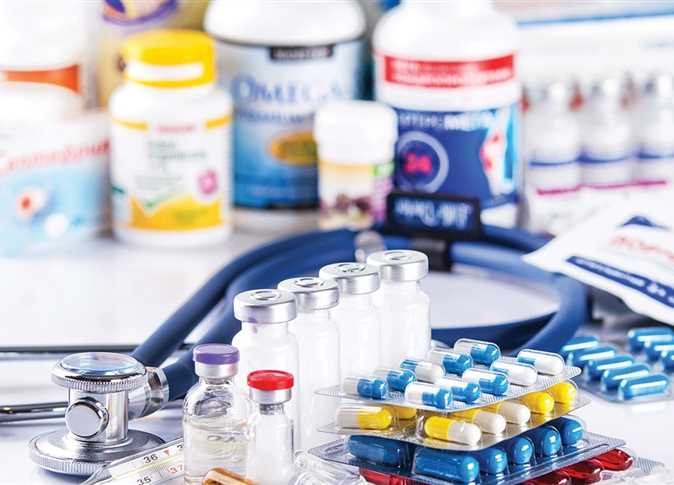Medicine: (373, 4, 524, 230), (201, 0, 353, 207), (114, 29, 233, 241), (6, 126, 127, 250), (4, 0, 100, 154), (309, 100, 394, 231), (279, 267, 347, 427), (231, 291, 304, 424), (369, 250, 433, 400), (326, 256, 381, 419), (523, 76, 581, 216), (184, 341, 243, 474), (579, 74, 630, 217), (241, 370, 297, 477), (636, 80, 669, 207)
